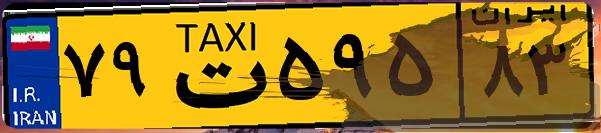3: (525, 38, 570, 115)
5: (270, 28, 330, 110), (385, 28, 445, 110)
7: (57, 26, 110, 100)
8: (475, 38, 525, 113)
9: (330, 28, 385, 110), (110, 28, 158, 98)
ت: (158, 12, 270, 120)
